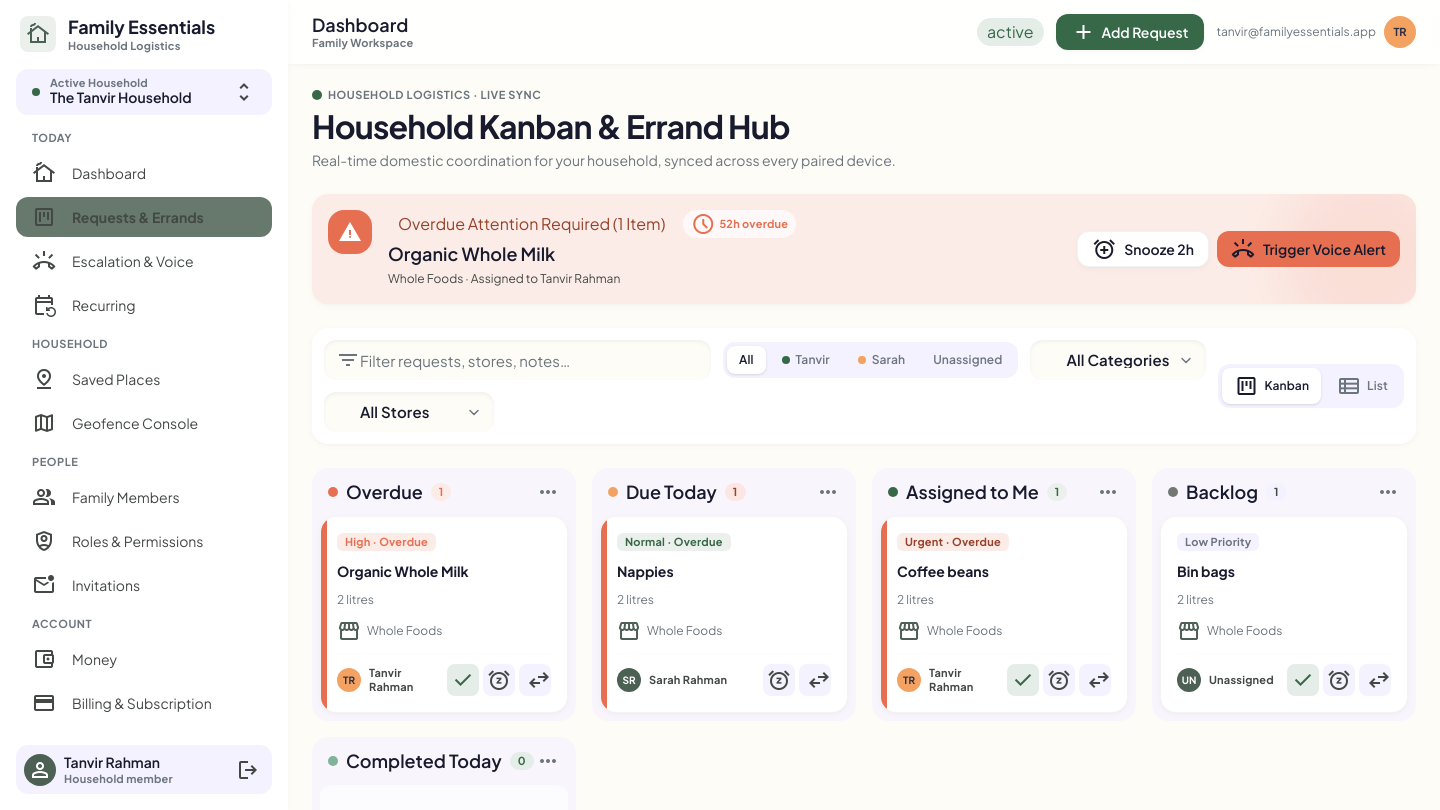
Test case: household kanban › filters the board down to the signed-in member
The width and height of the screenshot is (1440, 810).
Expected: the heading "Household Kanban & Errand Hub" is shown, [312, 106, 790, 146]
Expected: the heading "Overdue" is shown, [346, 480, 423, 504]
Click the button "Tanvir" at (806, 360), box [770, 346, 842, 374]
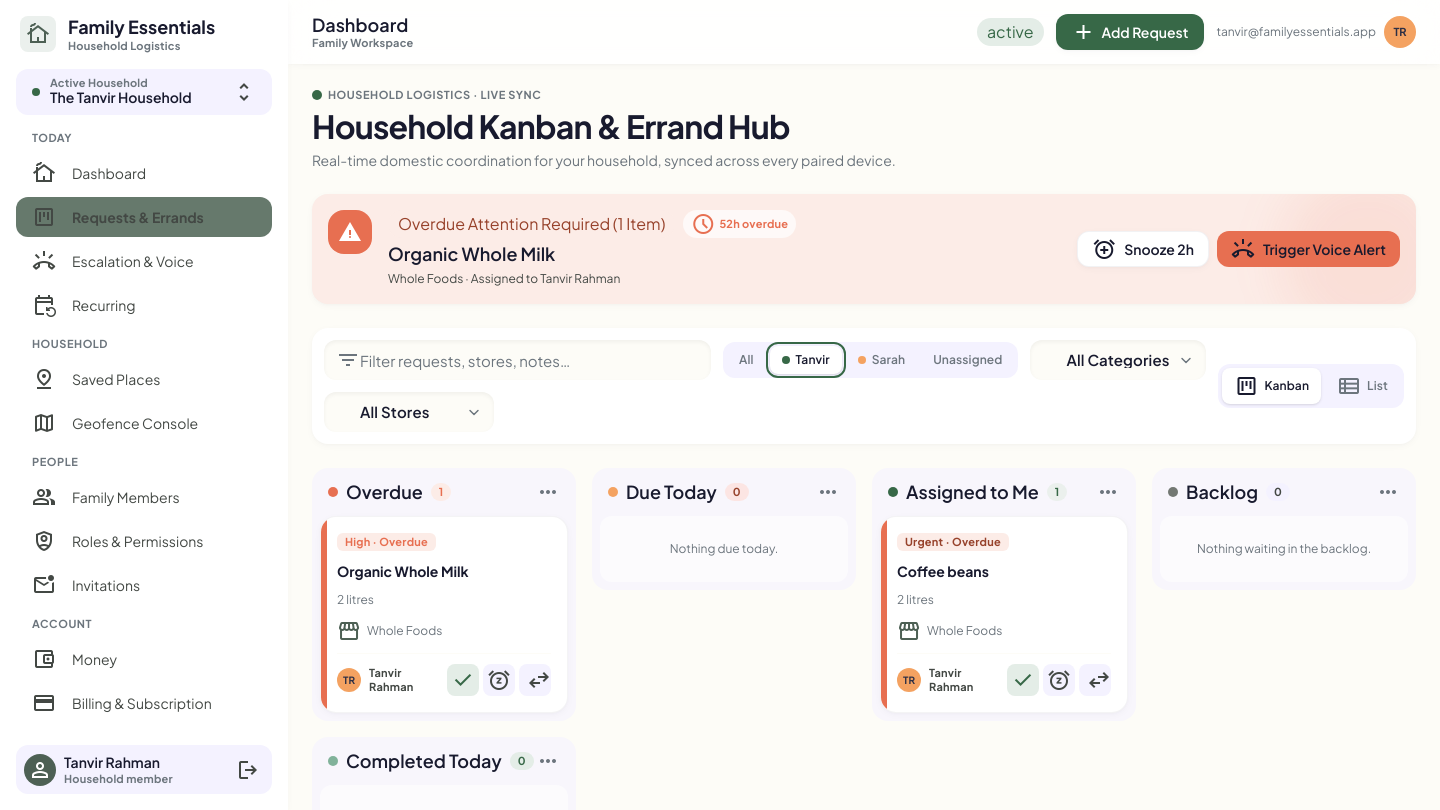
Expected: the heading "Organic Whole Milk" is shown, [337, 562, 468, 580]
Expected: the heading "Nappies" is gone
